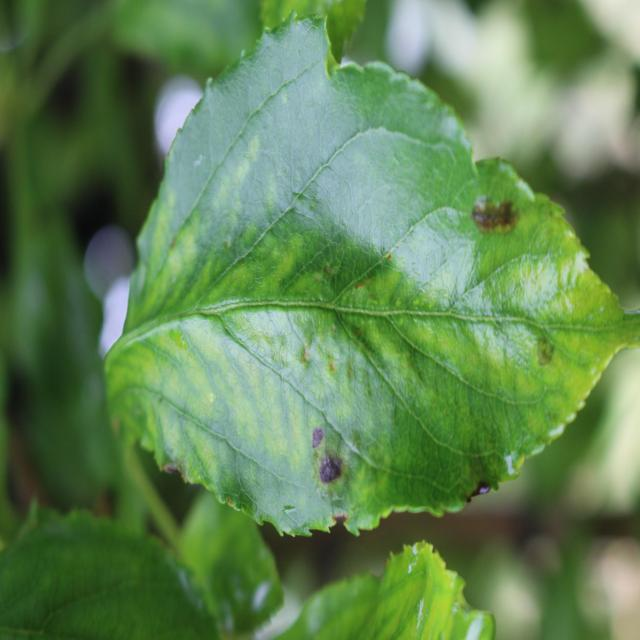scab: (241, 317, 376, 392), (283, 410, 367, 500), (531, 298, 587, 416), (467, 178, 519, 275), (466, 439, 501, 540)
